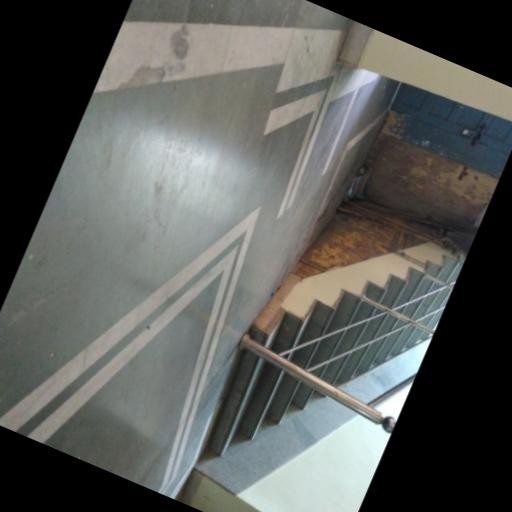stairs: (249, 254, 463, 351)
